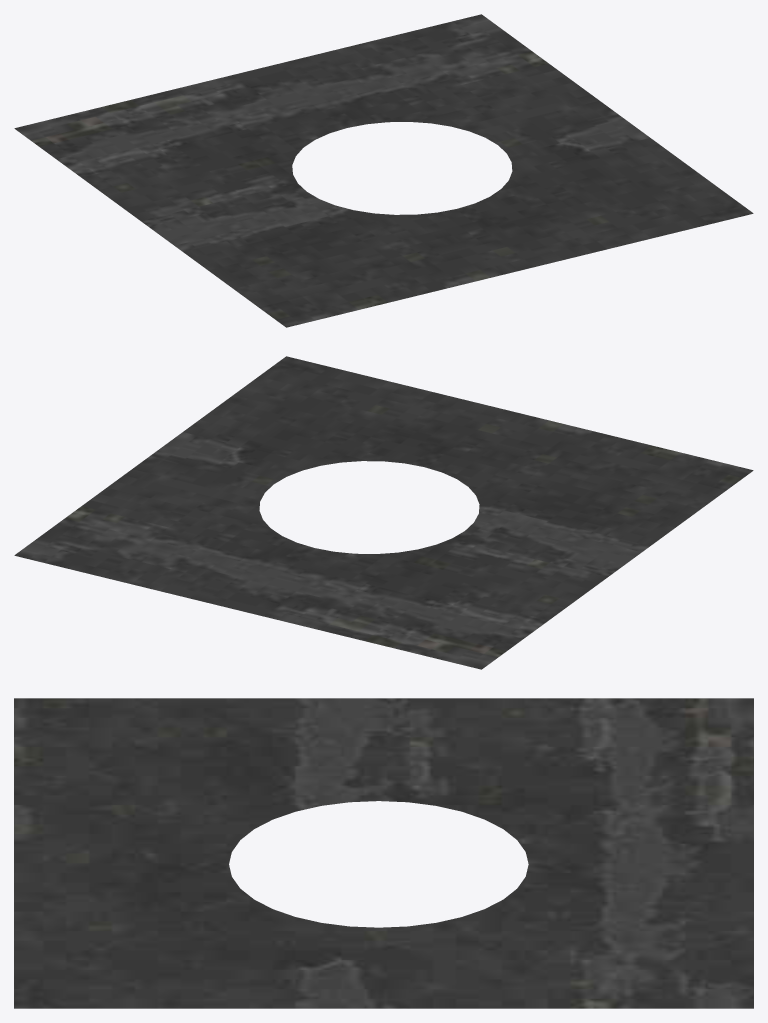
File: roof2.glb
3 renders of one model, top to bottom at view 1: azimuth 30°, elevation 25°; view 2: azimuth 150°, elevation 25°; view 3: azimuth 270°, elevation 25°, orthographic. The views are drawn at different scales.
Size of the model in its own units: 60.48 by 0 by 61.01.
1 material, 1 textured.
